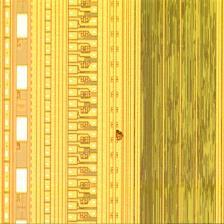PARTICLE: (112, 128, 128, 144)
